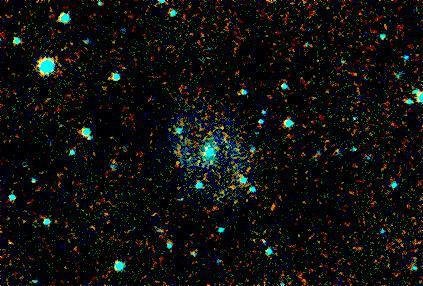star: (205, 105, 235, 135)
